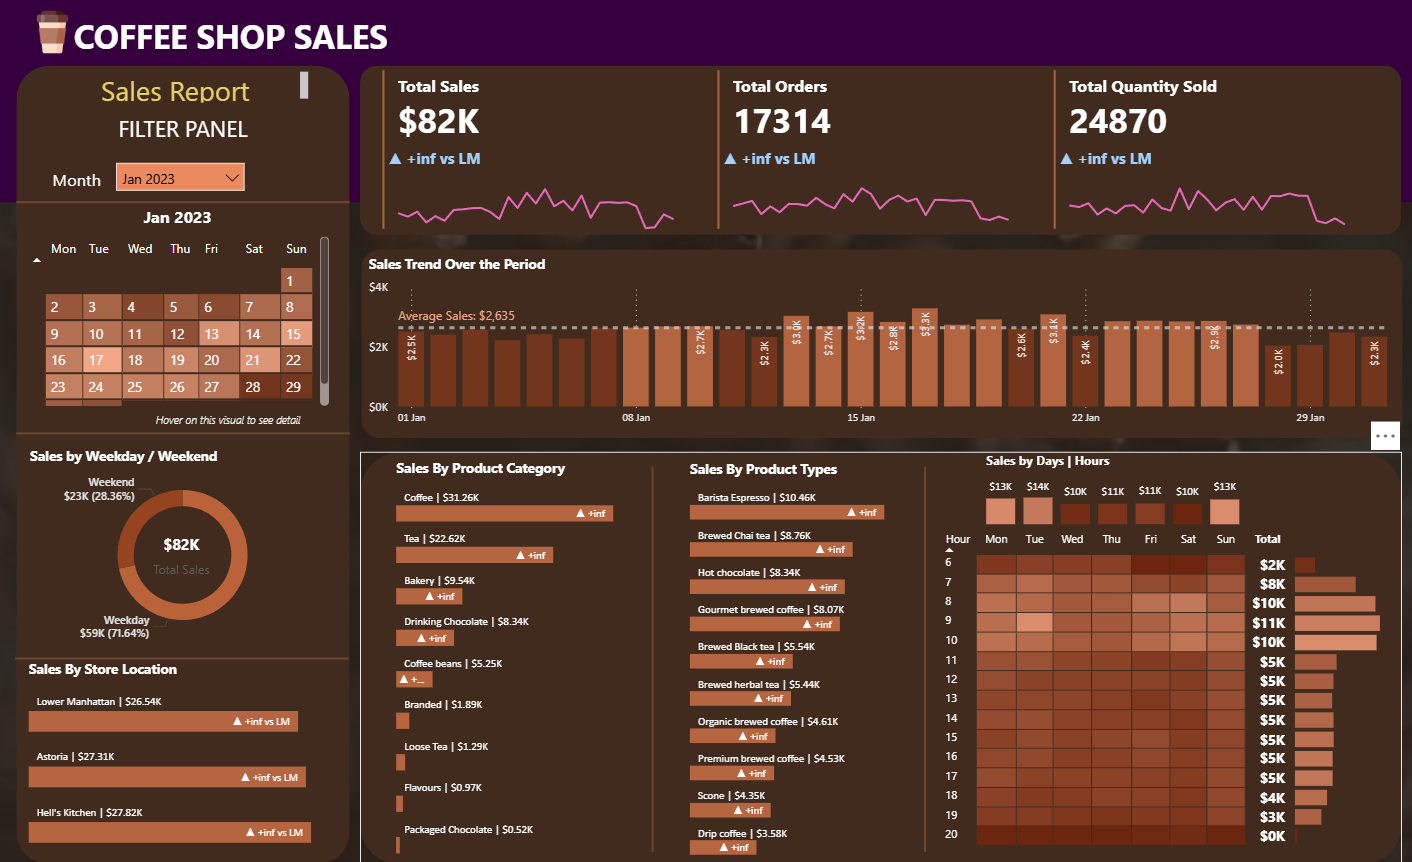

Layout of this report page (visuals, bound fields, positions):
{"tool":"powerbi","page":{"name":"Coffee Sales Report Dashboard","canvas":[1400,850],"ordinal":0},"visuals":[{"type":"shape","box":[0,0,1400,200],"z":0},{"type":"cardVisual","fields":{"Data":["Coffee Shop Sales.Total Sales"]},"box":[374.5,66,300,166],"z":0,"group":"g1"},{"type":"cardVisual","fields":{"Data":["Coffee Shop Sales.Total Orders"]},"box":[702.5,66.1,300,166],"z":0,"group":"g2"},{"type":"cardVisual","fields":{"Data":["Coffee Shop Sales.Total Quantity Sold"]},"box":[1031.8,66.1,300,166],"z":0,"group":"g3"},{"type":"shape","box":[21.1,66.7,326.3,782.5],"z":1000},{"type":"lineChart","fields":{"Category":["Date Table.Date.Variation.Date Hierarchy.Year","Date Table.Date.Variation.Date Hierarchy.Quarter","Date Table.Date.Variation.Date Hierarchy.Month","Date Table.Date.Variation.Date Hierarchy.Day"],"Y":["Coffee Shop Sales.Total Sales"]},"box":[380.4,146.5,298.2,85.7],"z":1000,"group":"g1"},{"type":"lineChart","fields":{"Category":["Date Table.Date.Variation.Date Hierarchy.Year","Date Table.Date.Variation.Date Hierarchy.Quarter","Date Table.Date.Variation.Date Hierarchy.Month","Date Table.Date.Variation.Date Hierarchy.Day"],"Y":["Coffee Shop Sales.Total Orders"]},"box":[708.4,146.6,298.2,85.7],"z":1000,"group":"g2"},{"type":"lineChart","fields":{"Category":["Date Table.Date.Variation.Date Hierarchy.Year","Date Table.Date.Variation.Date Hierarchy.Quarter","Date Table.Date.Variation.Date Hierarchy.Month","Date Table.Date.Variation.Date Hierarchy.Day"],"Y":["Coffee Shop Sales.Total Quantity Sold"]},"box":[1037.7,146.6,298.2,85.7],"z":1000,"group":"g3"},{"type":"shape","box":[357.4,66,1019.1,166],"z":2000},{"type":"textbox","box":[72.3,10.6,327.7,66],"z":3000},{"type":"slicer","fields":{"Values":["Date Table.Month Year"]},"box":[114.3,157.1,135.7,37.1],"z":4000},{"type":"group","id":"g1","title":"Group 1","box":[374.5,66,304.1,166.2],"z":5000},{"type":"group","id":"g2","title":"Group 1","box":[702.5,66.1,305.4,166.1],"z":6000},{"type":"group","id":"g3","title":"Group 1","box":[1031.8,66.1,305.4,166.1],"z":7000},{"type":"pivotTable","fields":{"Rows":["Date Table.Week Number"],"Columns":["Date Table.Day Name"],"Values":["Min(Date Table.Day Number)"]},"box":[26.8,228.6,305.4,175],"z":8000},{"type":"card","fields":{"Values":["Min(Date Table.Month Year)"]},"box":[125,200,108.9,33.9],"z":9000},{"type":"card","fields":{"Values":["Coffee Shop Sales.Foot Note"]},"box":[125,400,207.1,25],"z":10000},{"type":"shape","box":[21.1,421.1,326.3,10.5],"z":11000},{"type":"shape","box":[21.1,194.7,326.3,10.5],"z":12000},{"type":"donutChart","title":"Sales by Weekday / Weekend","fields":{"Category":["Date Table.Weekday / Weekend"],"Y":["Coffee Shop Sales.Total Sales"]},"box":[29.8,438.6,308.8,194.7],"z":13000},{"type":"card","fields":{"Values":["Coffee Shop Sales.Total Sales"]},"box":[136.8,517.5,91.2,54.4],"z":14000},{"type":"shape","box":[578.6,587.5,326.8,10.7],"z":15000},{"type":"clusteredBarChart","title":"Sales By Store Location","fields":{"Category":["Coffee Shop Sales.store_location"],"Y":["Coffee Shop Sales.PlacerHolder","Coffee Shop Sales.Total Sales"]},"box":[28.1,647.4,310.5,187.7],"z":16000},{"type":"shape","box":[357.9,245.6,1019.3,185],"z":17000},{"type":"columnChart","title":"Sales Trend Over the Period","fields":{"Category":["Coffee Shop Sales.transaction_date"],"Y":["Coffee Shop Sales.Total Sales"]},"box":[361.4,250.9,1008.8,177.2],"z":18000},{"type":"shape","box":[357.1,444.6,1019.6,405.4],"z":19000},{"type":"clusteredBarChart","title":"Sales By Product Category","fields":{"Category":["Coffee Shop Sales.product_category"],"Y":["Coffee Shop Sales.PlacerHolder","Coffee Shop Sales.Total Sales"]},"box":[387.5,450,250,392.9],"z":20000},{"type":"shape","box":[19.6,641.1,326.8,10.7],"z":21000},{"type":"shape","box":[633.9,458.9,19.6,376.8],"z":22000},{"type":"clusteredBarChart","title":"Sales By Product Types","fields":{"Category":["Coffee Shop Sales.product_type"],"Y":["Coffee Shop Sales.PlacerHolder","Coffee Shop Sales.Total Sales"]},"box":[675,451.8,230.4,392.9],"z":23000},{"type":"shape","box":[900,458.9,19.6,376.8],"z":24000},{"type":"pivotTable","fields":{"Rows":["Coffee Shop Sales.Hour"],"Columns":["Date Table.Day Name"],"Values":["Coffee Shop Sales.Total Sales"]},"box":[920,517.1,357.1,318.6],"z":25000},{"type":"barChart","fields":{"Category":["Coffee Shop Sales.Hour"],"Y":["Coffee Shop Sales.Total Sales"]},"box":[1267.1,534.3,128.6,298.6],"z":26000},{"type":"columnChart","title":"Sales by Days | Hours","fields":{"Y":["Coffee Shop Sales.Total Sales"],"Category":["Date Table.Day Name"]},"box":[965.7,444.3,258.6,77.1],"z":27000},{"type":"textbox","box":[51.4,161.4,61.4,37.1],"z":28000},{"type":"textbox","box":[48.6,67.1,262.9,40],"z":29000},{"type":"textbox","box":[65.7,107.1,235.7,41.4],"z":30000},{"type":"image","box":[30,5.7,51.4,54.3],"z":31000}]}

Visuals, with their boxes in screenshot pixels (x1, y1, x2, y2), scaled from the page's 1400x850 canvas onto the 1412x862 screenshot:
shape: rect(0, 0, 1411, 203)
cardVisual - Coffee Shop Sales.Total Sales: rect(378, 67, 680, 235)
cardVisual - Coffee Shop Sales.Total Orders: rect(709, 67, 1011, 235)
cardVisual - Coffee Shop Sales.Total Quantity Sold: rect(1041, 67, 1343, 235)
shape: rect(21, 68, 350, 861)
lineChart - Date Table.Date.Variation.Date Hierarchy.Year x Date Table.Date.Variation.Date Hierarchy.Quarter: rect(384, 149, 684, 235)
lineChart - Date Table.Date.Variation.Date Hierarchy.Year x Date Table.Date.Variation.Date Hierarchy.Quarter: rect(714, 149, 1015, 236)
lineChart - Date Table.Date.Variation.Date Hierarchy.Year x Date Table.Date.Variation.Date Hierarchy.Quarter: rect(1047, 149, 1347, 236)
shape: rect(360, 67, 1388, 235)
textbox: rect(73, 11, 403, 78)
slicer - Date Table.Month Year: rect(115, 159, 252, 197)
"Group 1" group: rect(378, 67, 684, 235)
"Group 1" group: rect(709, 67, 1017, 235)
"Group 1" group: rect(1041, 67, 1349, 235)
pivotTable - Date Table.Week Number x Date Table.Day Name: rect(27, 232, 335, 409)
card - Min(Date Table.Month Year): rect(126, 203, 236, 237)
card - Coffee Shop Sales.Foot Note: rect(126, 406, 335, 431)
shape: rect(21, 427, 350, 438)
shape: rect(21, 197, 350, 208)
"Sales by Weekday / Weekend" donutChart: rect(30, 445, 342, 642)
card - Coffee Shop Sales.Total Sales: rect(138, 525, 230, 580)
shape: rect(584, 596, 913, 607)
"Sales By Store Location" clusteredBarChart: rect(28, 657, 342, 847)
shape: rect(361, 249, 1389, 437)
"Sales Trend Over the Period" columnChart: rect(364, 254, 1382, 434)
shape: rect(360, 451, 1389, 861)
"Sales By Product Category" clusteredBarChart: rect(391, 456, 643, 855)
shape: rect(20, 650, 349, 661)
shape: rect(639, 465, 659, 847)
"Sales By Product Types" clusteredBarChart: rect(681, 458, 913, 857)
shape: rect(908, 465, 927, 847)
pivotTable - Coffee Shop Sales.Hour x Date Table.Day Name: rect(928, 524, 1288, 847)
barChart - Coffee Shop Sales.Hour x Coffee Shop Sales.Total Sales: rect(1278, 542, 1408, 845)
"Sales by Days | Hours" columnChart: rect(974, 451, 1235, 529)
textbox: rect(52, 164, 114, 201)
textbox: rect(49, 68, 314, 109)
textbox: rect(66, 109, 304, 151)
image: rect(30, 6, 82, 61)
